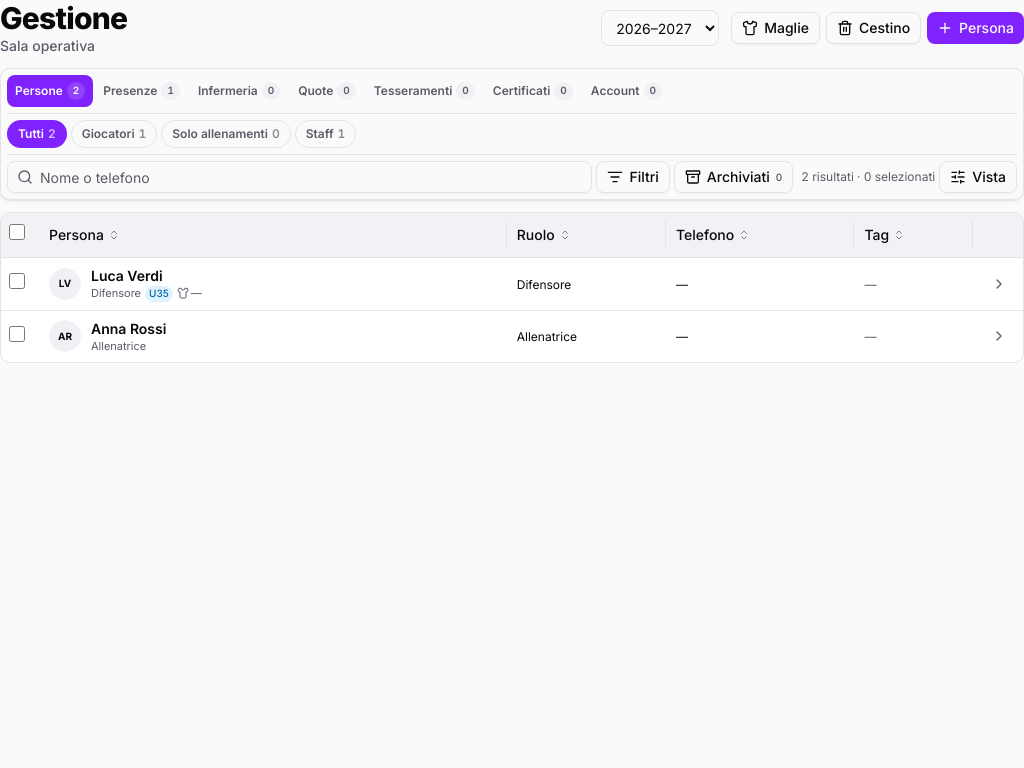
Scenario: ManagementDashboard operational state › switches the desktop layout from the view menu and saves it
expect the table is shown: met, box [1, 213, 1023, 362]
Click the button with aria-label "Impostazioni vista" at (978, 177), box [939, 161, 1017, 193]
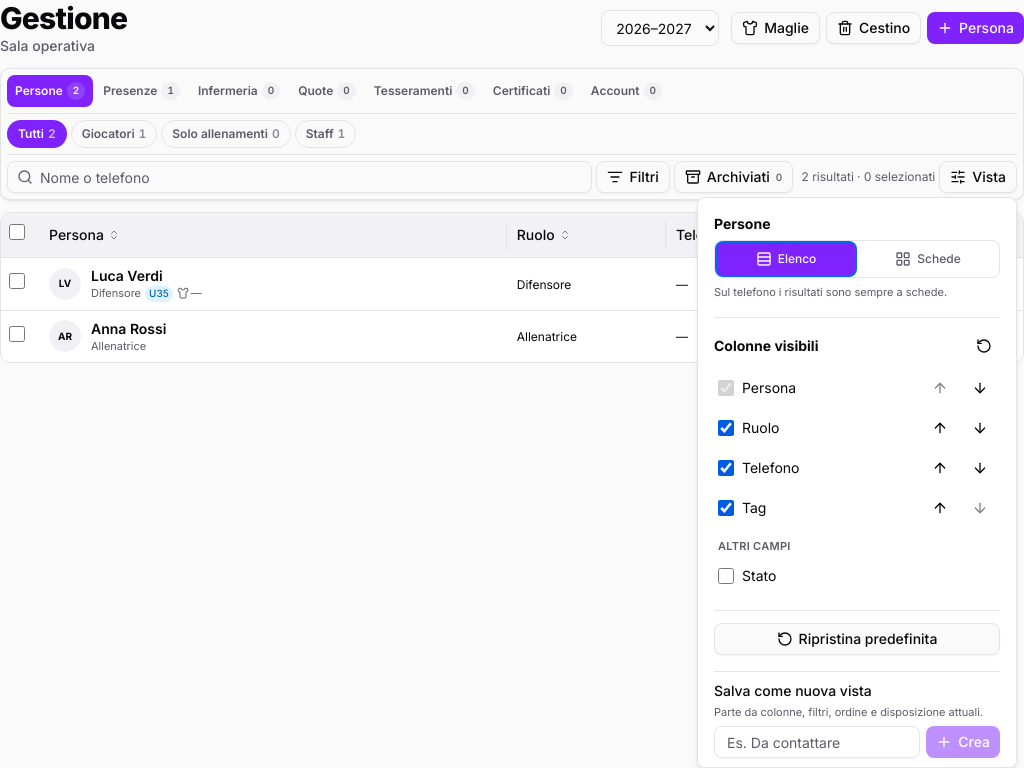
Click the button with aria-label "Vista schede" at (928, 259), box [859, 243, 997, 275]
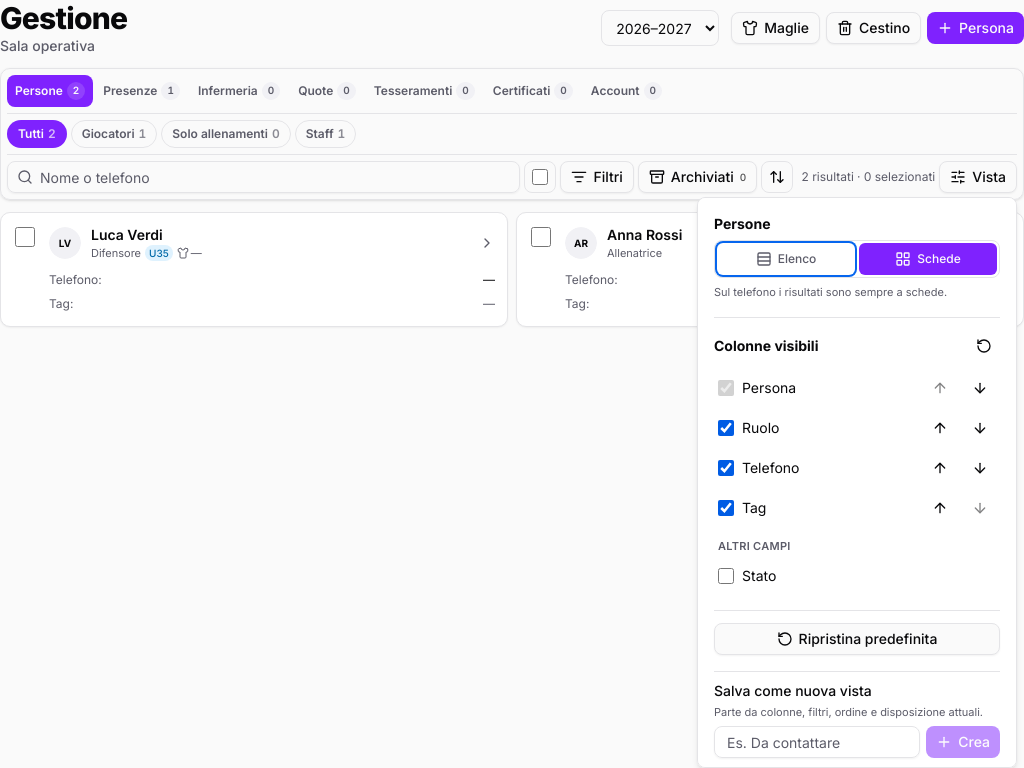
expect the table is gone: met
